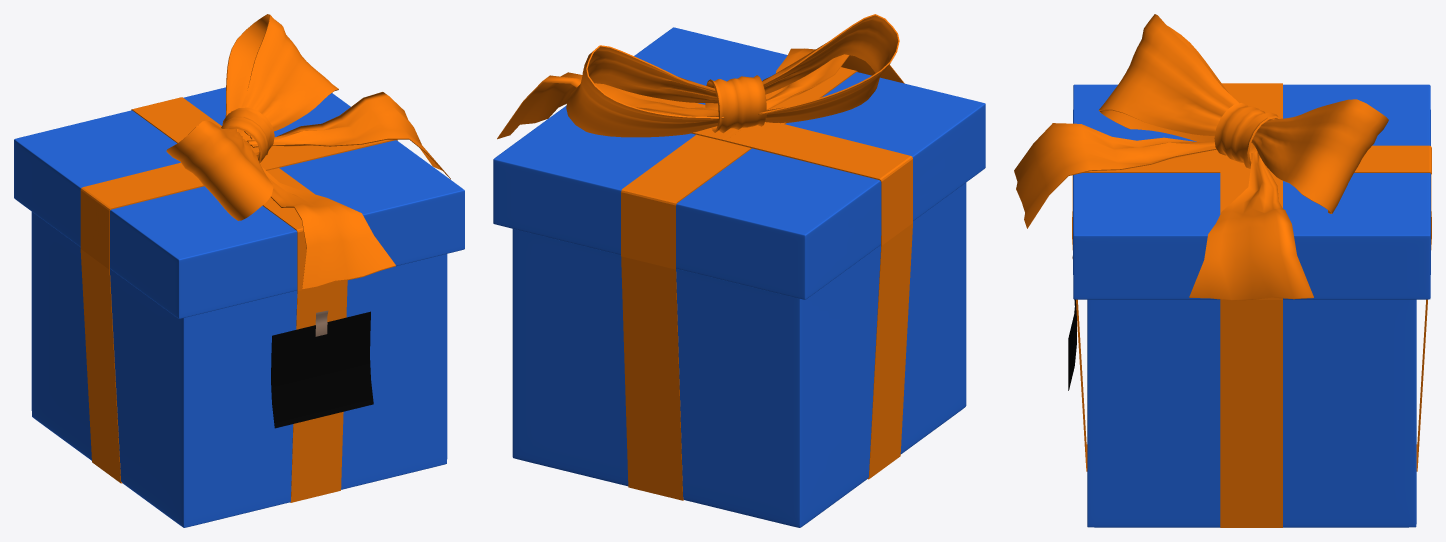
File: gift4.glb
The picture shows the model from 3 angles, left to right: view 1: azimuth 30°, elevation 25°; view 2: azimuth 150°, elevation 25°; view 3: azimuth 270°, elevation 25°; orthographic projection. The views are drawn at different scales.
Parts seen in each view (by area): view 1: Cube004, Plane010, Plane005, Plane012, Plane003, Plane002, Cylinder001; view 2: Cube004, Plane003, Plane005, Plane010, Plane012, Cylinder001; view 3: Cube004, Plane010, Plane012, Plane005, Plane003, Cylinder001, Plane002.
Boxes of the visible parts, x1=… form: Cube004: x1=14, y1=87, x2=464, y2=527; Plane010: x1=166, y1=14, x2=338, y2=220; Plane005: x1=80, y1=139, x2=397, y2=483; Plane012: x1=247, y1=92, x2=450, y2=289; Plane003: x1=131, y1=97, x2=347, y2=502; Plane002: x1=271, y1=311, x2=373, y2=428; Cylinder001: x1=221, y1=107, x2=274, y2=162; Cube004: x1=493, y1=27, x2=985, y2=527; Plane003: x1=621, y1=67, x2=857, y2=500; Plane005: x1=566, y1=98, x2=912, y2=479; Plane010: x1=566, y1=14, x2=899, y2=137; Plane012: x1=497, y1=48, x2=904, y2=139; Cylinder001: x1=705, y1=75, x2=766, y2=133; Cube004: x1=1073, y1=84, x2=1430, y2=527; Plane010: x1=1098, y1=14, x2=1388, y2=213; Plane012: x1=1014, y1=123, x2=1313, y2=300; Plane005: x1=1220, y1=83, x2=1282, y2=527; Plane003: x1=1072, y1=145, x2=1431, y2=471; Cylinder001: x1=1214, y1=103, x2=1281, y2=168; Plane002: x1=1068, y1=299, x2=1076, y2=390.
Bounding box in the file's own units: 2.56 × 2.69 × 2.54.
